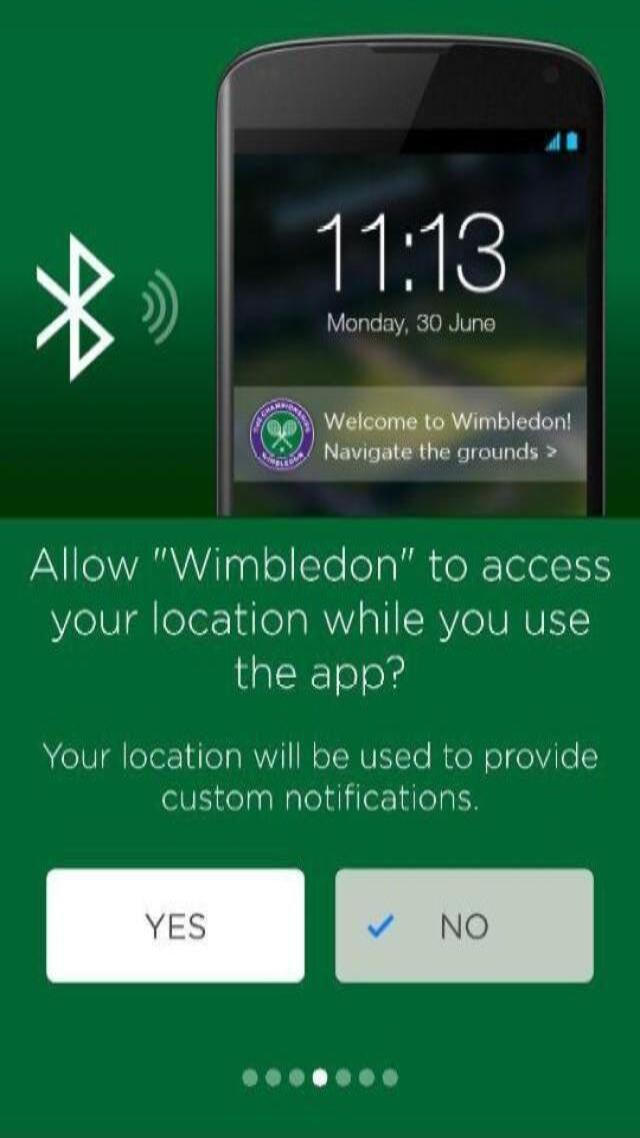Image: (214, 34, 599, 524), (242, 394, 584, 476), (22, 226, 122, 390), (138, 268, 184, 346)
Text: (19, 538, 618, 589), (42, 600, 598, 648), (36, 738, 604, 777), (304, 204, 526, 300), (154, 780, 484, 820), (225, 652, 416, 703), (320, 307, 502, 341), (134, 900, 216, 950), (431, 906, 498, 948)
TextButton: (42, 865, 308, 983), (334, 869, 593, 980)
